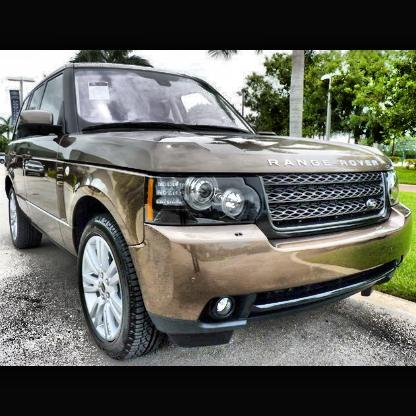Land Rover Range Rover SUV 2012: (7, 62, 413, 360)
